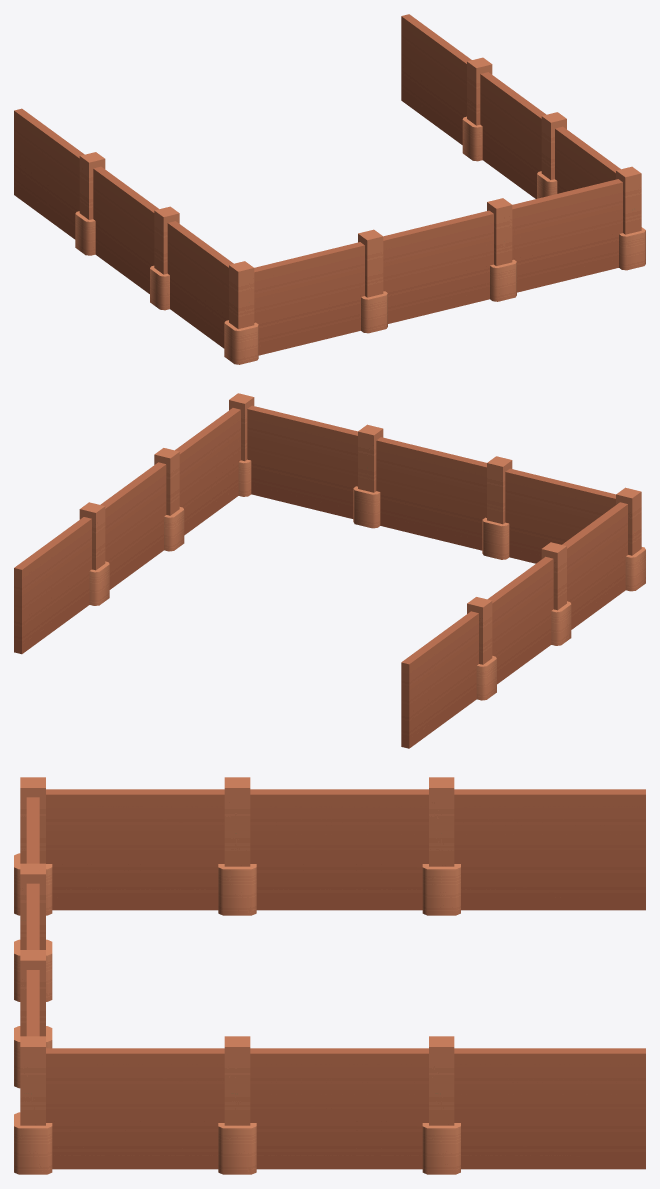
Rendered from fence-3x3.glb.
3 renders of one model, top to bottom at view 1: azimuth 30°, elevation 25°; view 2: azimuth 150°, elevation 25°; view 3: azimuth 270°, elevation 25°, orthographic. The views are drawn at different scales.
Visible parts, largest first — view 1: fence-3x3; view 2: fence-3x3; view 3: fence-3x3.
Part boxes in pixels (<box>): fence-3x3: <box>14,14,645,364</box>; fence-3x3: <box>14,393,645,748</box>; fence-3x3: <box>14,777,645,1174</box>.
Size of the model in its own units: 1.28 by 0.27 by 1.24.
Materials: 1 (1 with a texture image).
